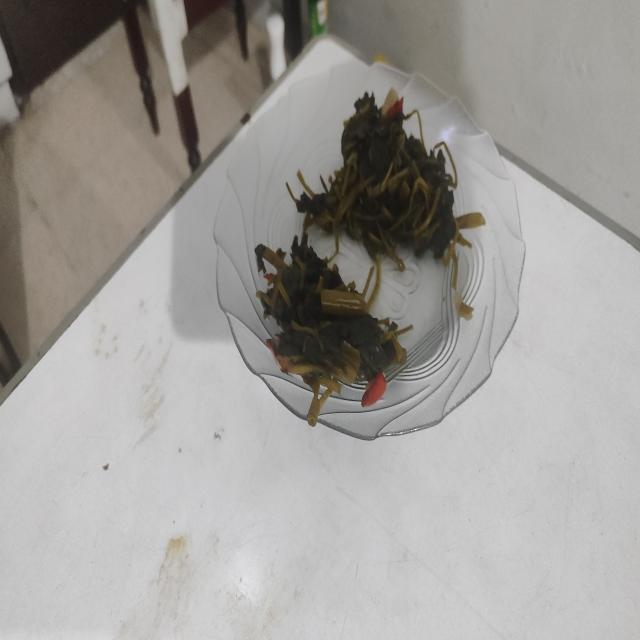tumis_kangkung: (286, 88, 484, 285), (255, 232, 413, 426)
